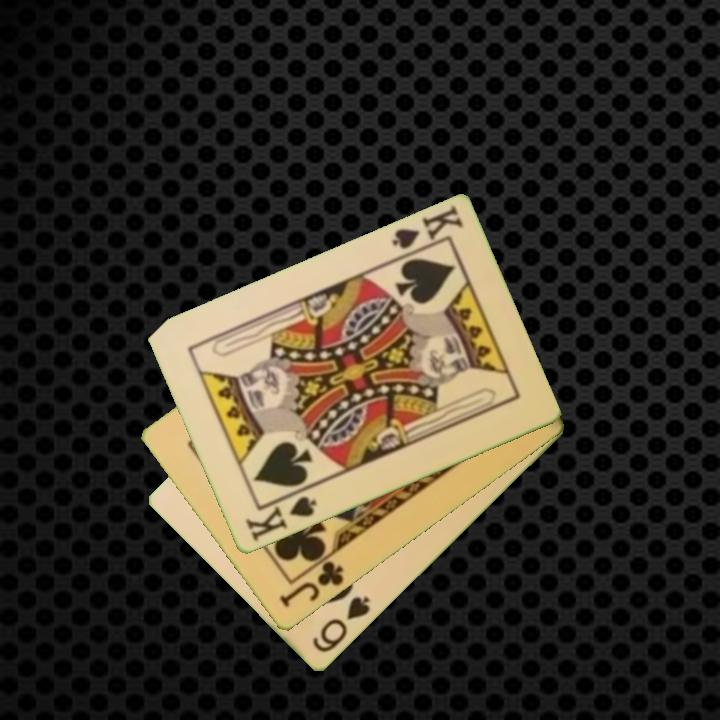6s: (308, 593, 373, 656)
Jc: (276, 550, 347, 611)
Ks: (388, 202, 466, 263), (241, 486, 320, 545)
